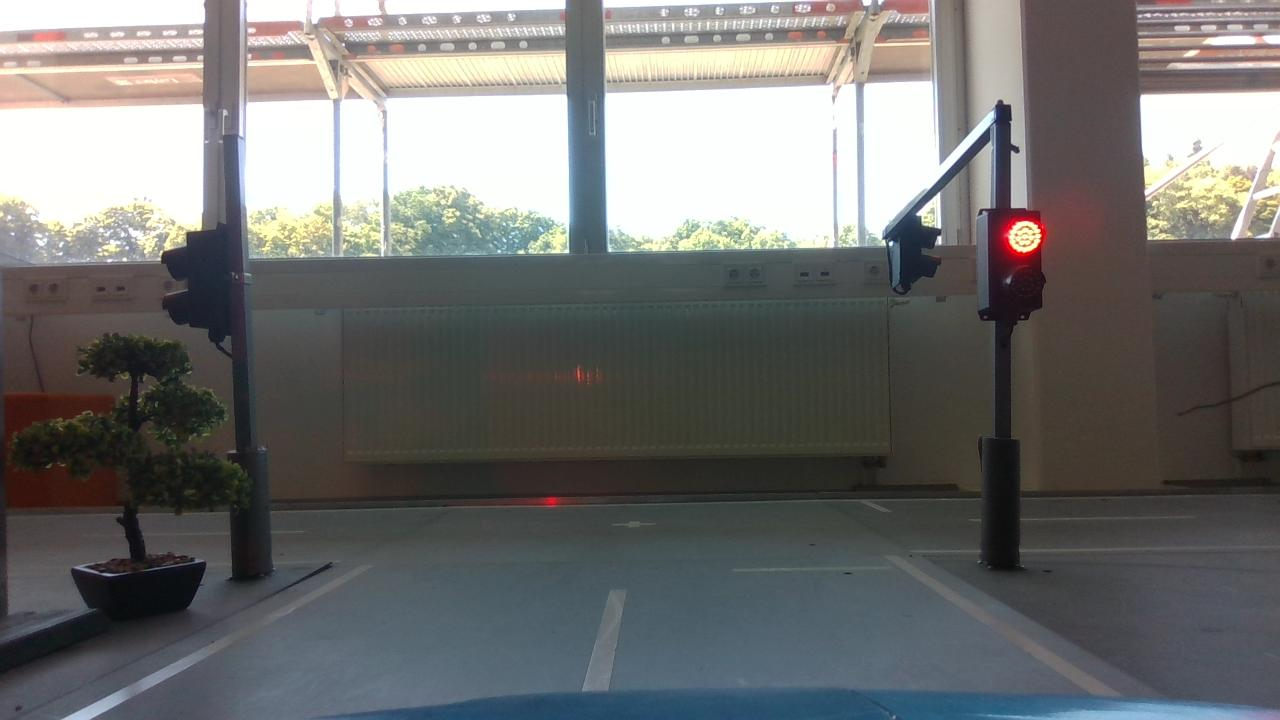traffic_light_red: (961, 197, 1065, 338)
